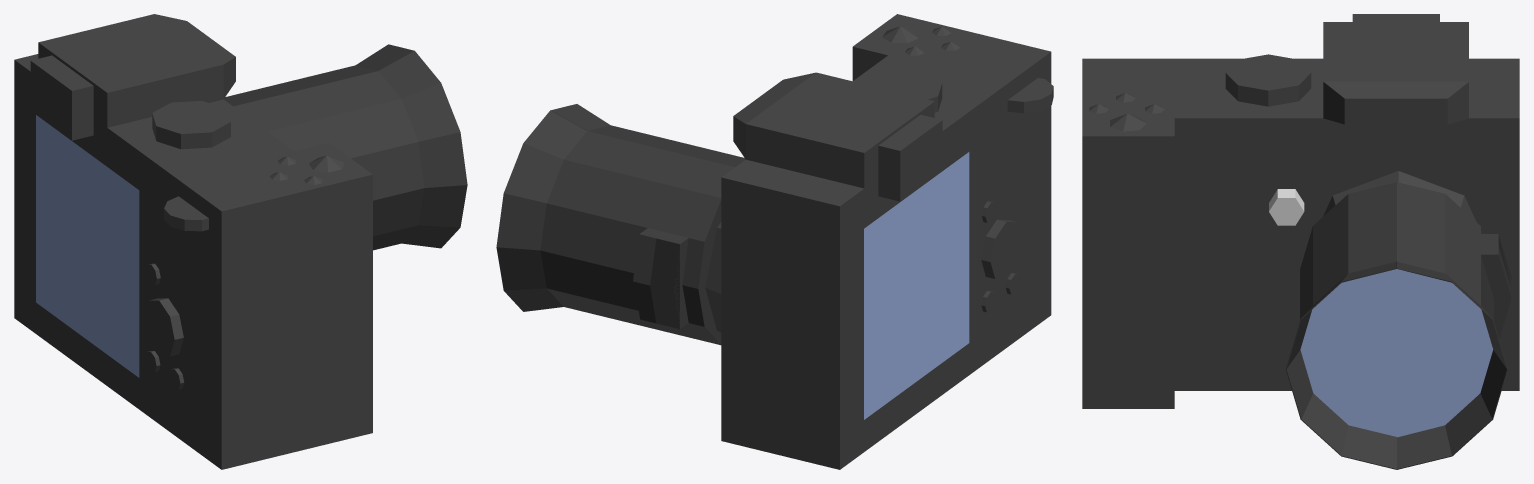
Rendered from DSLR.fbx.
3 views of the same model, side by side, from view 1: azimuth 30°, elevation 25°; view 2: azimuth 150°, elevation 25°; view 3: azimuth 270°, elevation 25° (orthographic). The views are drawn at different scales.
Visible parts, largest first — view 1: Cube, Cylinder, Plane, Cylinder.002; view 2: Cube, Cylinder, Plane, Cylinder.002; view 3: Cube, Cylinder, Cylinder.003, Cylinder.001.
Boxes of the visible parts, bbox=[...] form: Cube: bbox=[14, 14, 372, 469]; Cylinder: bbox=[223, 44, 467, 250]; Plane: bbox=[36, 115, 139, 377]; Cylinder.002: bbox=[164, 196, 208, 231]; Cube: bbox=[705, 14, 1051, 469]; Cylinder: bbox=[496, 104, 745, 345]; Plane: bbox=[864, 152, 969, 419]; Cylinder.002: bbox=[1007, 77, 1053, 113]; Cube: bbox=[1082, 14, 1519, 408]; Cylinder: bbox=[1285, 182, 1511, 469]; Cylinder.003: bbox=[1300, 269, 1493, 437]; Cylinder.001: bbox=[1269, 189, 1304, 225].
Bounding box in the file's own units: 481 × 366 × 469.
